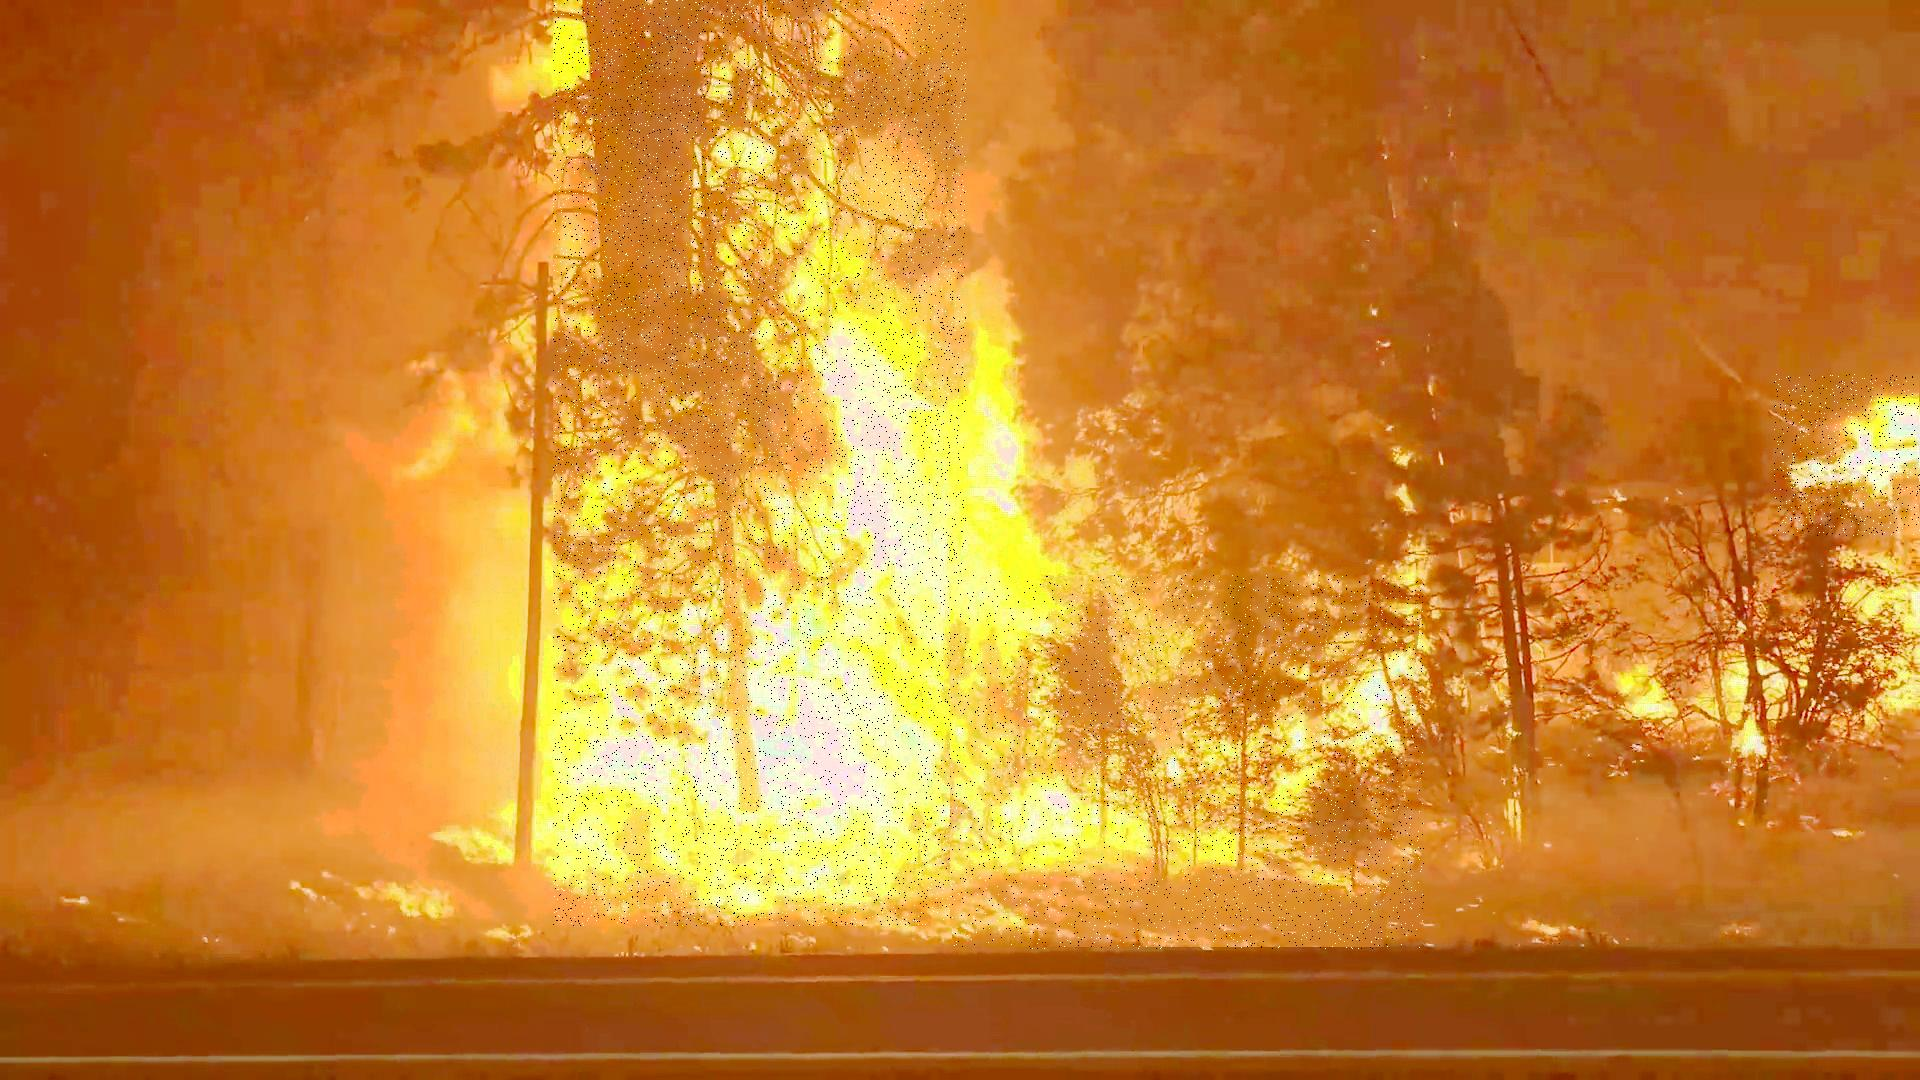fire: (554, 0, 967, 926), (953, 576, 1425, 949), (1774, 375, 1920, 535)
